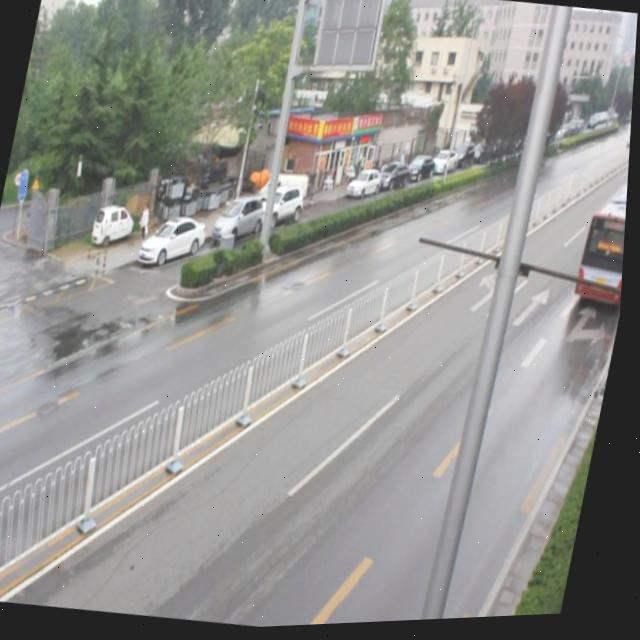van: (574, 183, 630, 309)
